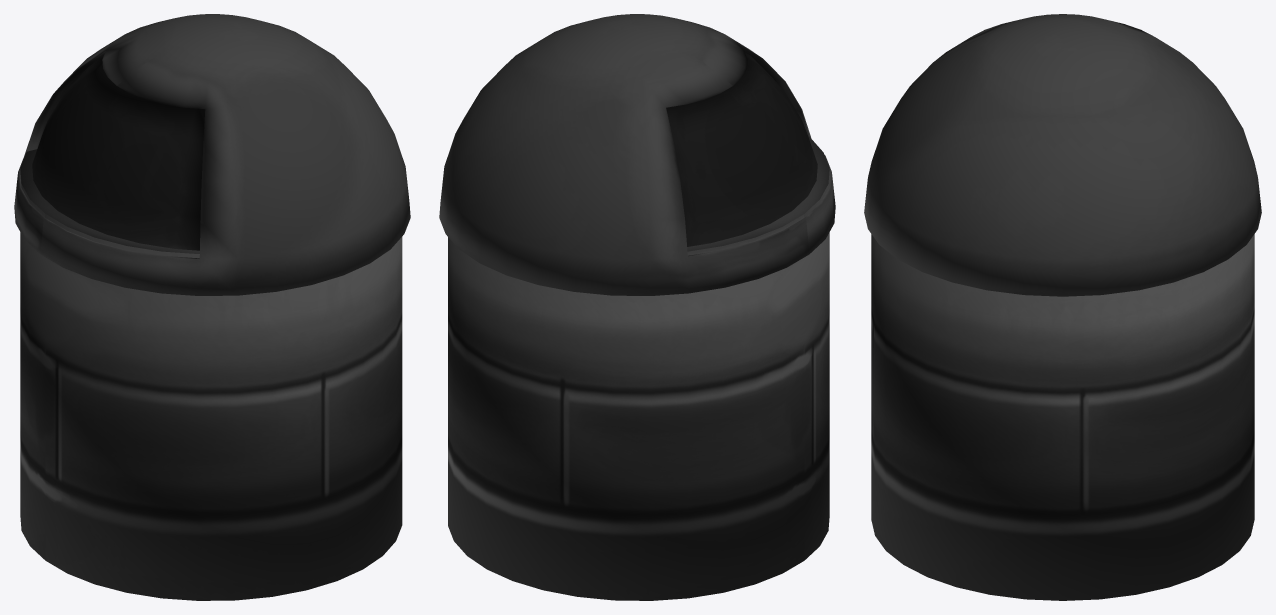
Rendered from Bin.fbx.
3 renders of one model, left to right at view 1: azimuth 30°, elevation 25°; view 2: azimuth 150°, elevation 25°; view 3: azimuth 270°, elevation 25°, orthographic.
Visible parts, largest first — view 1: Cylinder; view 2: Cylinder; view 3: Cylinder.
Boxes of the visible parts, x1,y1,x2,y2 form: Cylinder: (14,14,410,600); Cylinder: (439,14,835,600); Cylinder: (864,14,1261,600).
Bounding box in the file's own units: 151 × 204 × 151.
